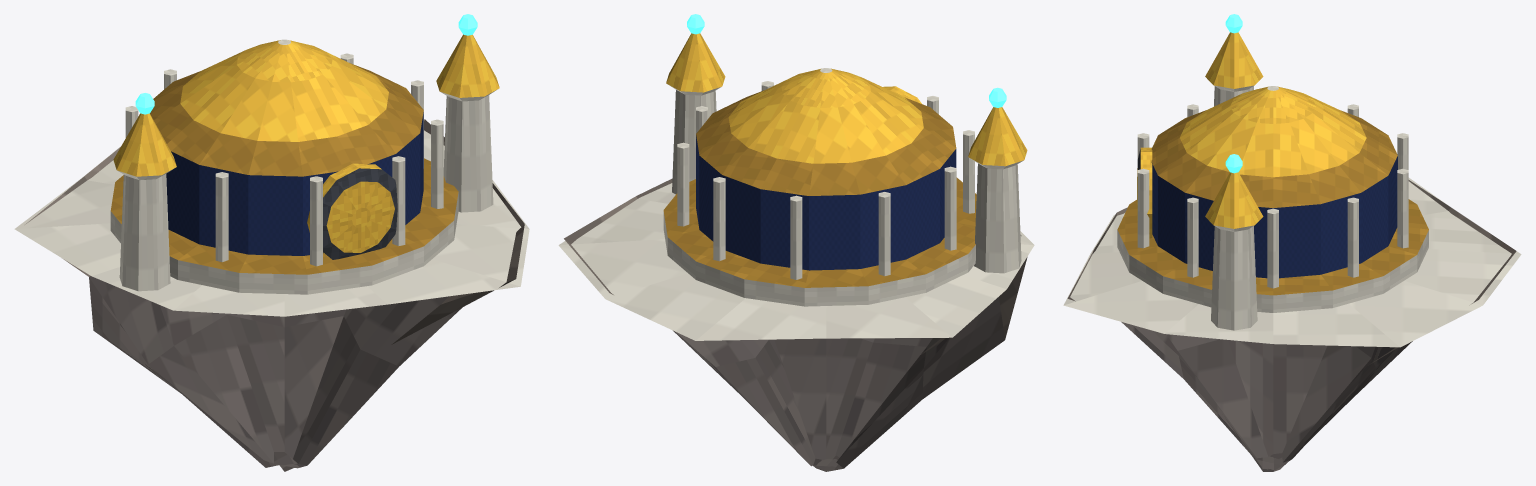
File: SM_Env_SkyVault_HQ.glb
3 renders of one model, left to right at view 1: azimuth 30°, elevation 25°; view 2: azimuth 150°, elevation 25°; view 3: azimuth 270°, elevation 25°, orthographic. The views are drawn at different scales.
Parts seen in each view (by area): view 1: SM_Env_SkyVault_HQ; view 2: SM_Env_SkyVault_HQ; view 3: SM_Env_SkyVault_HQ.
Part boxes in pixels (x1,y1,x2,y2): SM_Env_SkyVault_HQ: (14,14,529,471); SM_Env_SkyVault_HQ: (558,14,1034,471); SM_Env_SkyVault_HQ: (1063,14,1521,471).
Bounding box in the file's own units: 21.98 × 21.52 × 23.52.
Materials: 1 (1 with a texture image).
